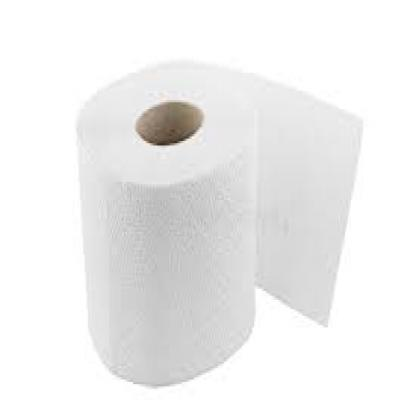tissue: (77, 60, 316, 392)
